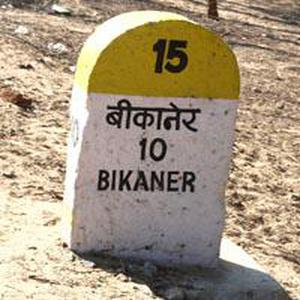kmstone: (74, 6, 240, 272)
